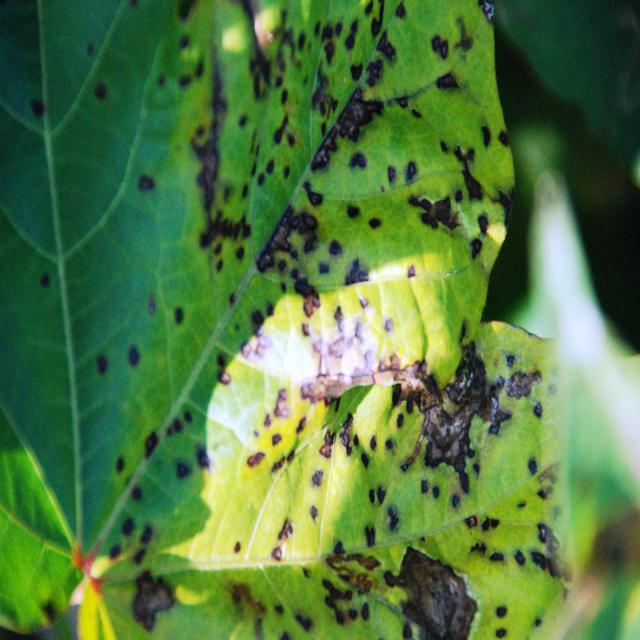Bacterial Blight: (210, 87, 508, 625)
